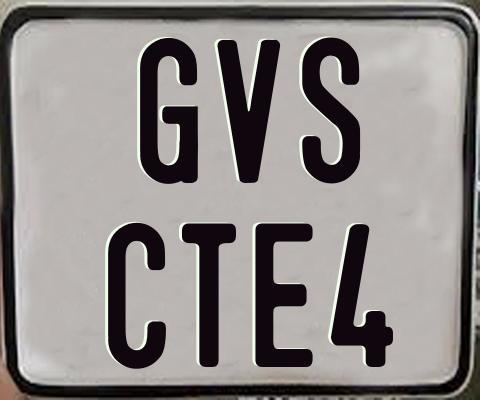4: (330, 224, 392, 371)
C: (105, 222, 167, 373)
E: (254, 223, 316, 373)
G: (137, 36, 199, 186)
S: (300, 34, 363, 184)
T: (181, 220, 240, 368)
V: (216, 39, 284, 182)
